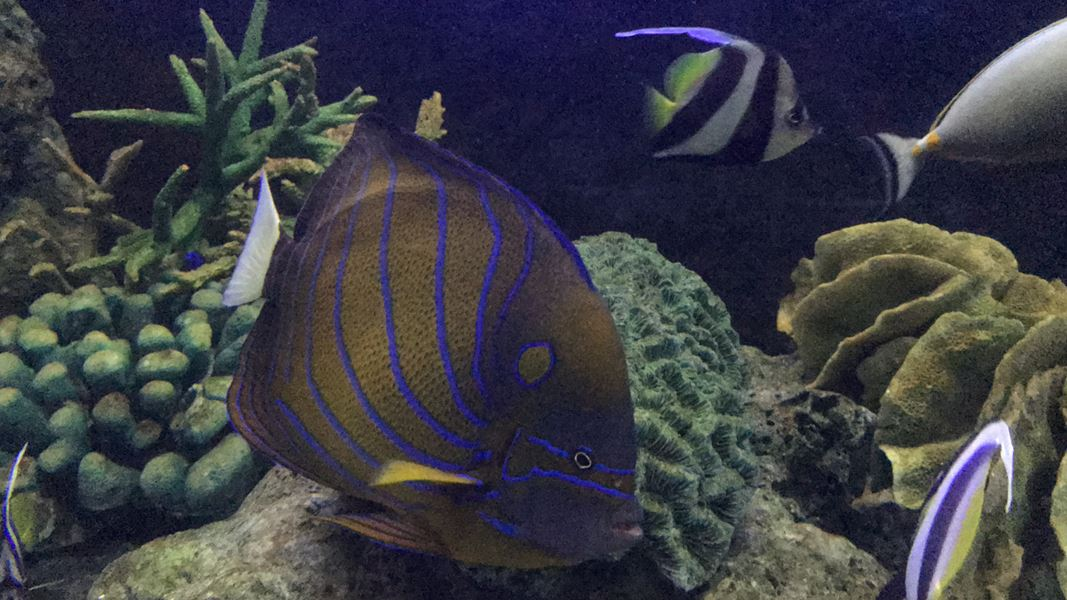Blue ring angelfish: (173, 91, 675, 586)
